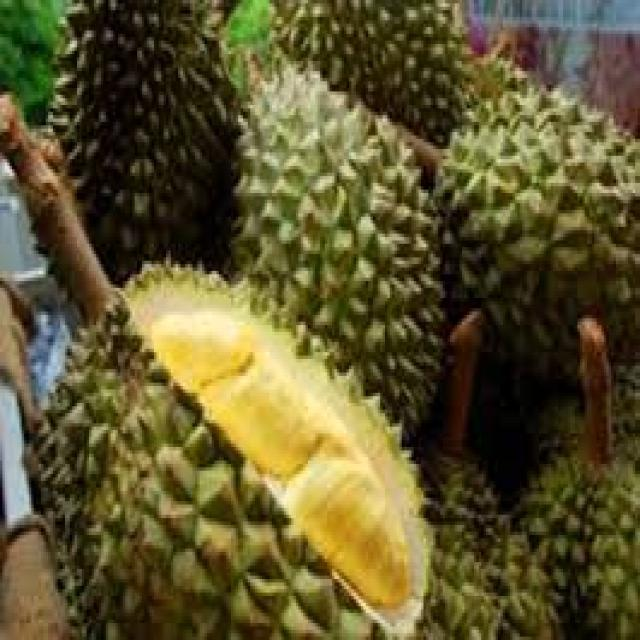organic waste: (0, 94, 433, 636), (229, 48, 445, 444), (418, 78, 638, 362), (41, 0, 243, 281), (424, 304, 566, 636), (520, 315, 638, 637), (271, 0, 469, 125), (0, 0, 67, 111), (224, 0, 269, 95)
